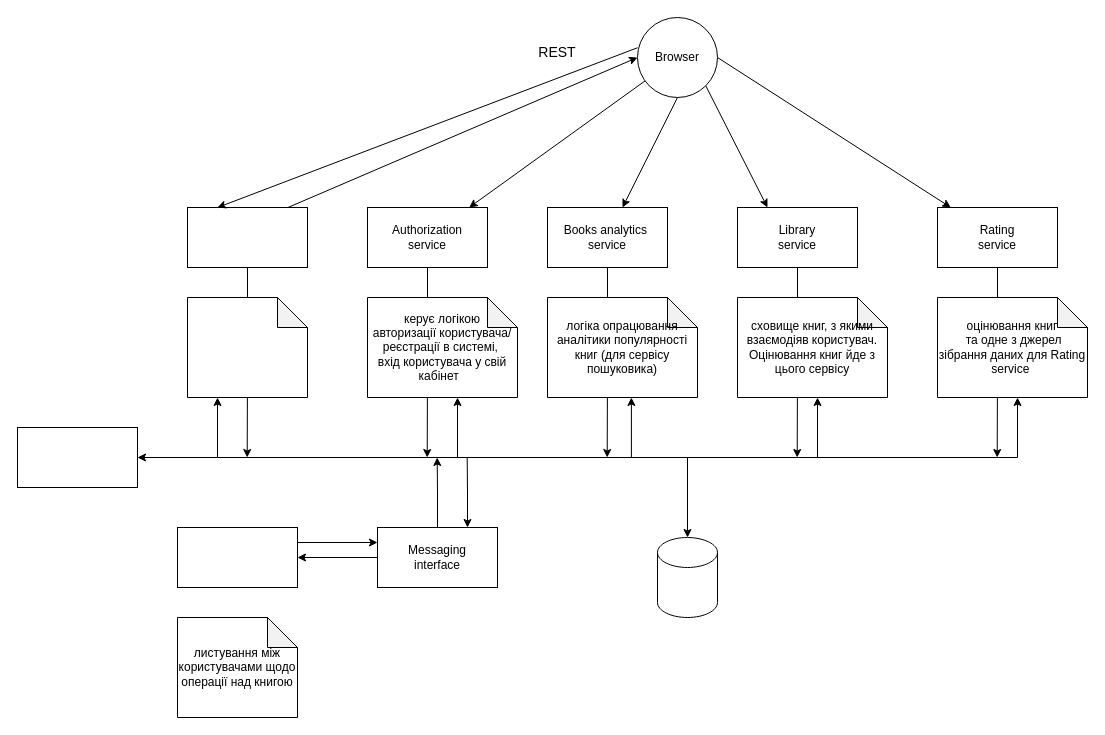
The diagram is 1105 pixels wide and 735 high, and some of its shapes have lost their labels. The shapes that lost their labels are listed below. From the top down, each one's centre as x and y in pixels, then its label:
At pixel 247 237: "View service".
At pixel 247 347: "повертає статичні файли в браузер (html, css, js)".
At pixel 77 457: "Logging".
At pixel 237 557: "Messaging service".
At pixel 687 577: "Data store".
